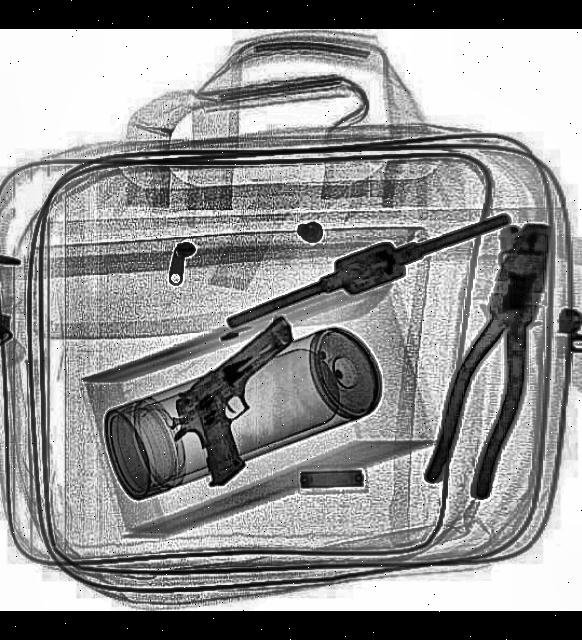Gun: (151, 310, 344, 492)
Pliers: (424, 210, 572, 502)
